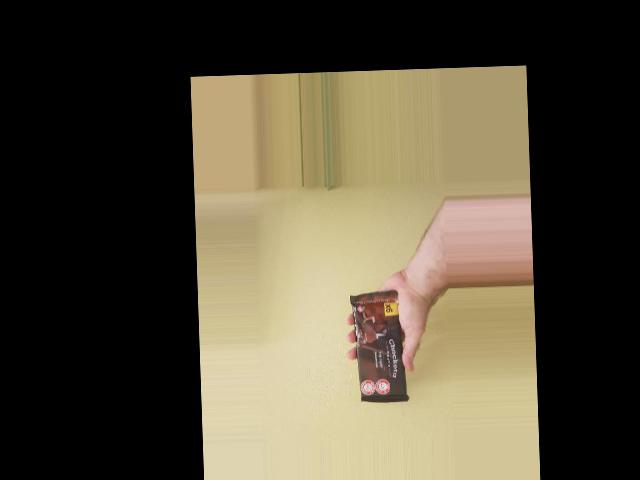chocolate: (349, 289, 411, 402)
